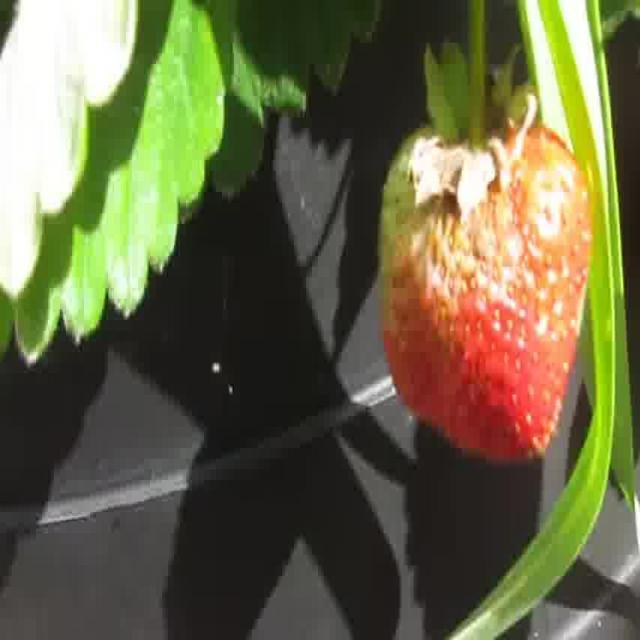Fruta sana: (378, 107, 595, 466)
